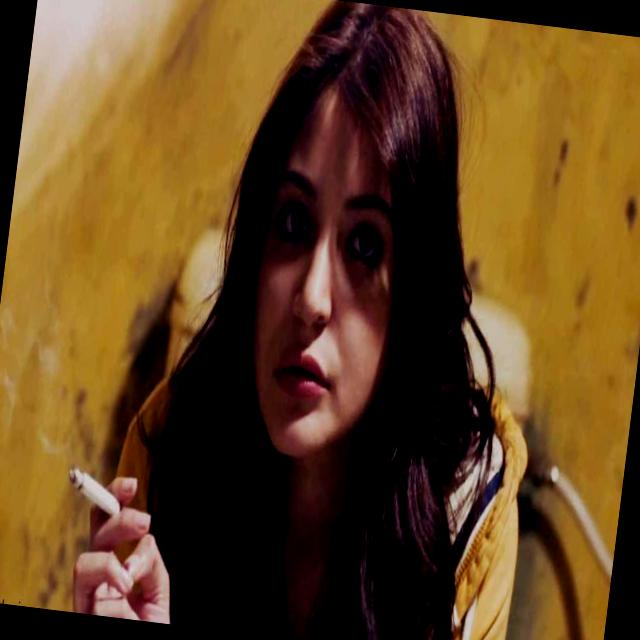cigarette: (48, 435, 135, 525)
